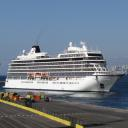cruises: (2, 40, 127, 94)
